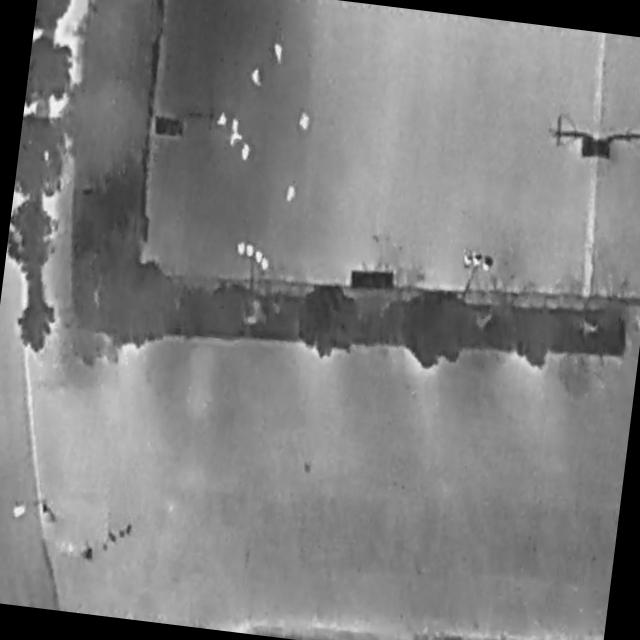person: (251, 67, 264, 87), (272, 44, 284, 65), (298, 112, 311, 131), (240, 144, 251, 162), (217, 112, 230, 127), (230, 134, 243, 148), (287, 185, 297, 202), (231, 119, 240, 135)
